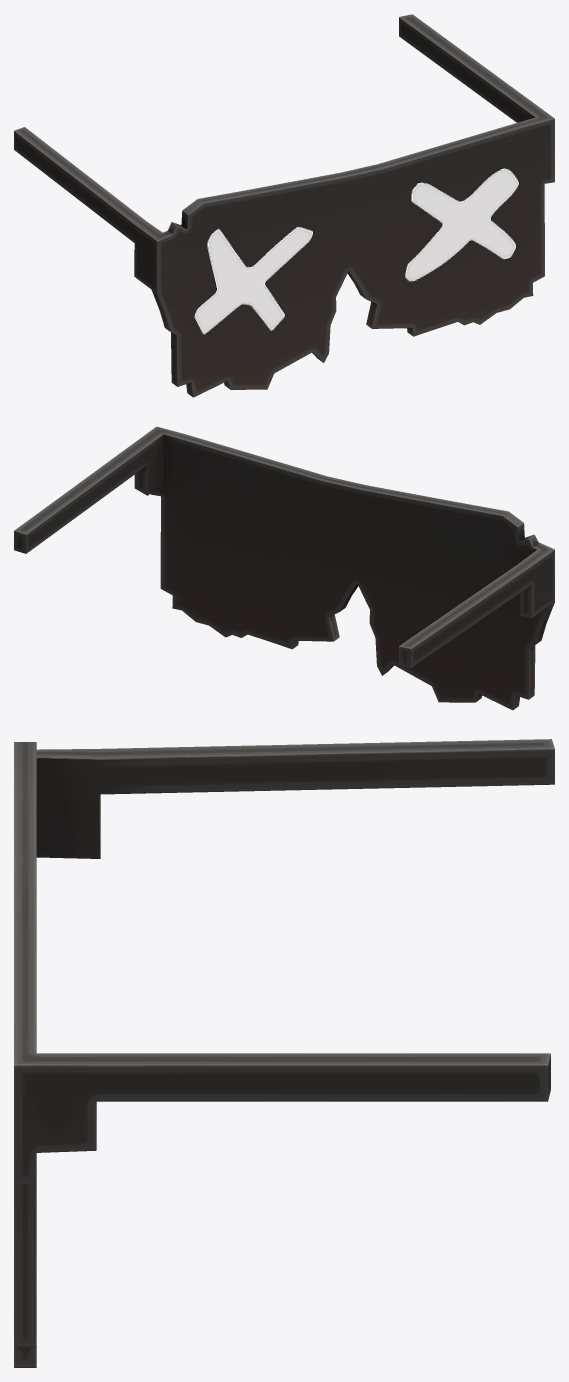
The model's file is SummerGlasses.glb.
3 views of the same model, one above another, from view 1: azimuth 30°, elevation 25°; view 2: azimuth 150°, elevation 25°; view 3: azimuth 270°, elevation 25° (orthographic). The views are drawn at different scales.
Parts seen in each view (by area): view 1: SummerSunglasses; view 2: SummerSunglasses; view 3: SummerSunglasses.
Boxes of the visible parts, <box> form: SummerSunglasses: <box>14,14,554,397</box>; SummerSunglasses: <box>14,426,554,710</box>; SummerSunglasses: <box>14,739,554,1367</box>.
Size of the model in its own units: 0.3309 by 0.1605 by 0.2079.
Materials: 1 (1 with a texture image).
